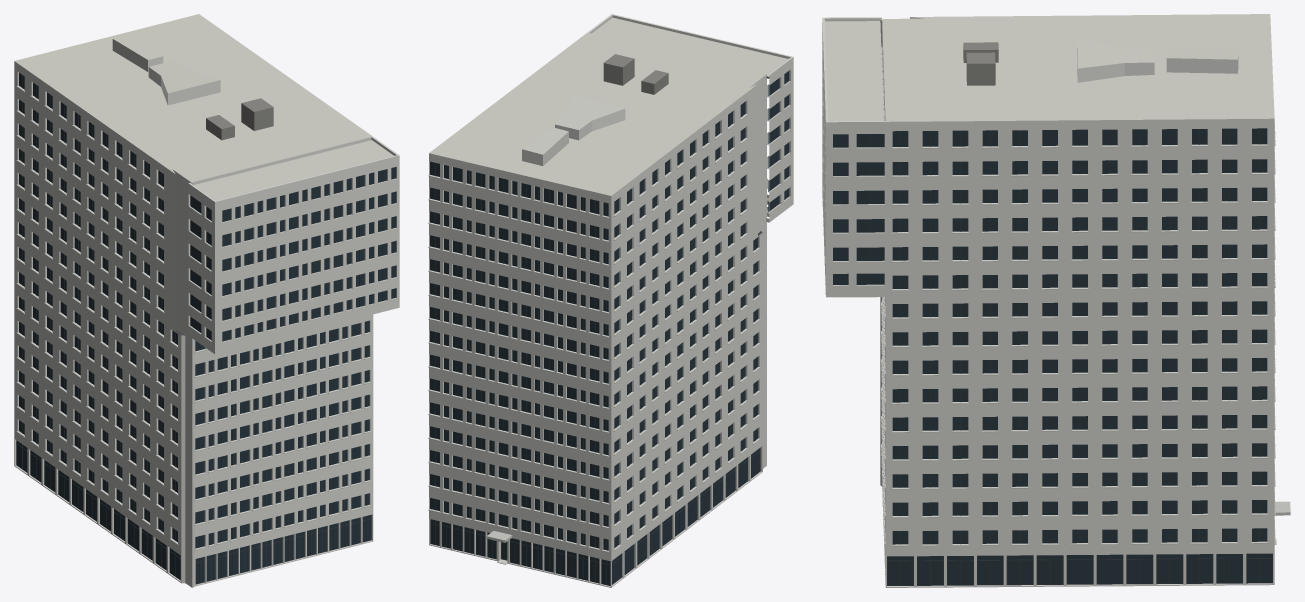
File: recipe-large-haarlemmerweg-940.glb
The picture shows the model from 3 angles, left to right: view 1: azimuth 30°, elevation 25°; view 2: azimuth 150°, elevation 25°; view 3: azimuth 270°, elevation 25°; orthographic projection. The views are drawn at different scales.
Visible parts, largest first — view 1: haarlemmerweg-940; view 2: haarlemmerweg-940; view 3: haarlemmerweg-940.
Boxes of the visible parts, <box> form: haarlemmerweg-940: <box>14,14,399,587</box>; haarlemmerweg-940: <box>428,14,793,587</box>; haarlemmerweg-940: <box>822,14,1290,587</box>.
Bounding box in the file's own units: 23.41 × 49.09 × 42.67.
